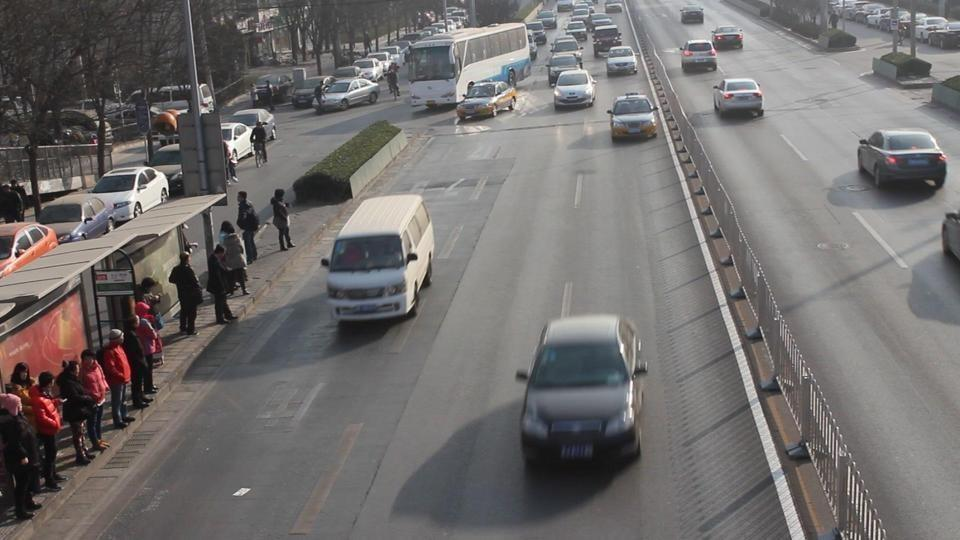car: (516, 313, 647, 469), (857, 128, 948, 189), (88, 165, 170, 226), (35, 193, 112, 242), (0, 221, 60, 278), (456, 79, 519, 121), (314, 77, 380, 113), (608, 94, 658, 141), (711, 77, 765, 119), (150, 143, 186, 196), (552, 69, 597, 110), (218, 122, 258, 164), (221, 108, 278, 136), (680, 39, 719, 74), (545, 53, 580, 86), (606, 45, 638, 76), (941, 210, 960, 261), (709, 25, 745, 51), (591, 25, 621, 55)
